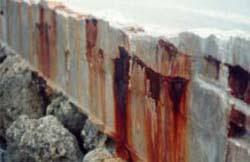Corrosion: (110, 38, 192, 162), (84, 17, 107, 126), (34, 1, 59, 87), (222, 62, 250, 106), (225, 103, 250, 139), (203, 54, 222, 80)
Spalling: (48, 1, 250, 40)
